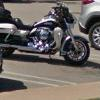Motorcycle: (6, 13, 93, 67)
